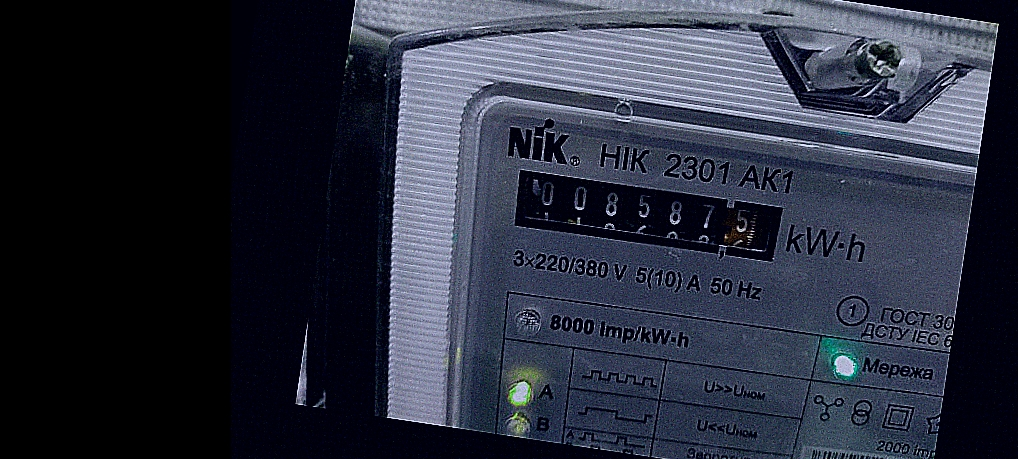0: (537, 176, 558, 207), (571, 182, 592, 212)
5: (733, 205, 754, 236), (634, 190, 655, 220)
7: (698, 199, 719, 231)
8: (666, 195, 687, 227), (602, 187, 622, 217)
screen: (493, 150, 804, 277)
